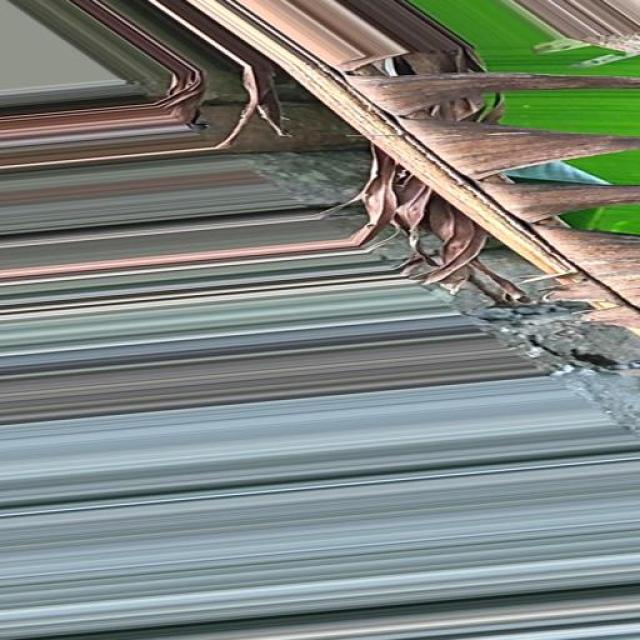Bract_mosaic_virus: (70, 0, 640, 421)
